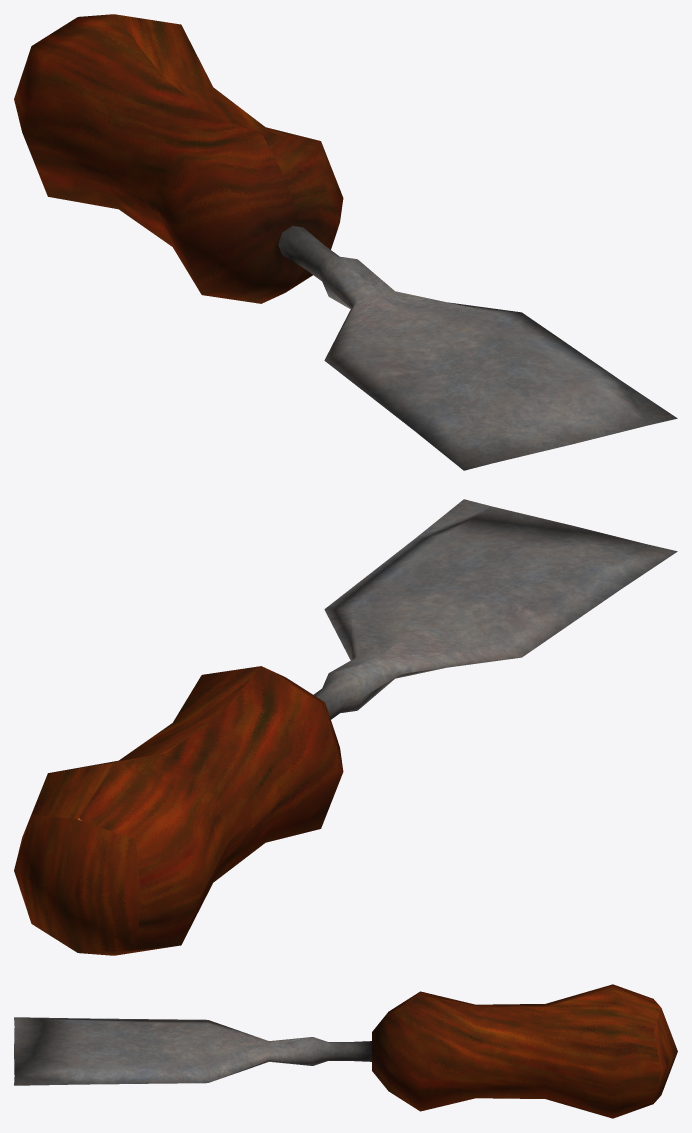
The model's file is Chisel.fbx.
3 renders of one model, top to bottom at view 1: azimuth 30°, elevation 25°; view 2: azimuth 150°, elevation 25°; view 3: azimuth 270°, elevation 25°, orthographic. The views are drawn at different scales.
Visible parts, largest first — view 1: Chisel; view 2: Chisel; view 3: Chisel.
Boxes of the visible parts, box(x1,y1,x2,y2) form: Chisel: box(14, 14, 677, 470); Chisel: box(14, 499, 677, 955); Chisel: box(14, 984, 677, 1118).
Size of the model in its own units: 0.5117 by 0.439 by 2.09.
1 material, 1 textured.
